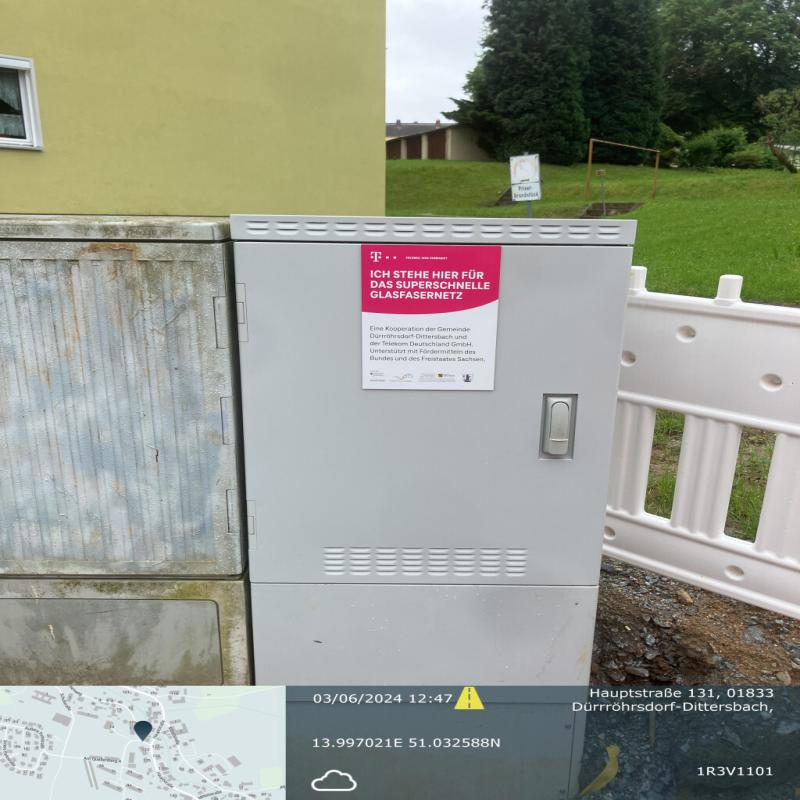NT-Gehause: (235, 218, 620, 682), (2, 222, 248, 678)
Steaker: (360, 238, 498, 392)
